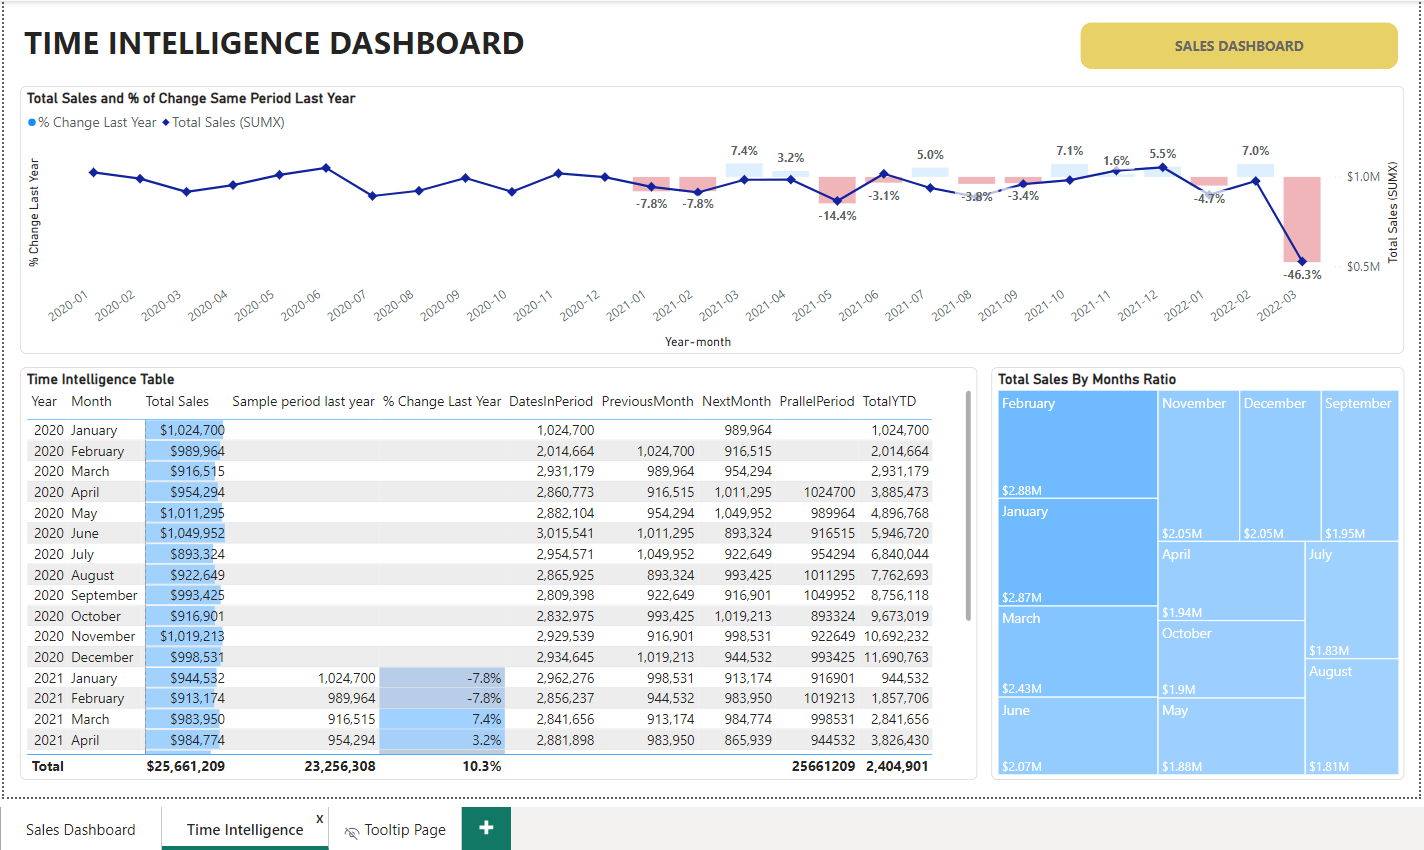

The page's visual inventory and layout, read from the dashboard file:
{"tool":"powerbi","page":{"name":"Time Intelligence","canvas":[1920,1080],"ordinal":1},"visuals":[{"type":"tableEx","title":"Time Intelligence Table","fields":{"Values":["Date.Date.Variation.Date Hierarchy.Year","Date.Date.Variation.Date Hierarchy.Month","Measure group.Total Sales (SUMX)","Measure group.Sample period last year","Measure group.% Change Last Year","Measure group.DatesInPeriod","Measure group.PreviousMonth","Measure group.NextMonth","Measure group.PrallelPeriod","Measure group.TotalYTD"]},"box":[21.3,496.2,1298.6,560],"z":0},{"type":"lineClusteredColumnComboChart","title":"Total Sales and % of Change Same Period Last Year","fields":{"Category":["Date.Year-month"],"Y2":["Measure group.Total Sales (SUMX)"],"Y":["Measure group.% Change Last Year"]},"box":[22.3,114.6,1877.2,363],"z":1000},{"type":"treemap","title":"Total Sales By Months Ratio","fields":{"Group":["Date.Month Name"],"Values":["Measure group.Total Sales (SUMX)"]},"box":[1339.5,496.2,560,560],"z":2000},{"type":"textbox","box":[21.3,19.7,772.9,83.5],"z":3000},{"type":"shape","box":[1460.1,28.7,431.5,63.7],"z":4000}]}

Visuals, with their boxes on the page's 1920x1080 design canvas (x1, y1, x2, y2). These are canvas units, not pixel positions in the 1424x850 screenshot, which may show the page scaled, cropped or inside an application window:
"Time Intelligence Table" tableEx: x1=21, y1=496, x2=1320, y2=1056
"Total Sales and % of Change Same Period Last Year" lineClusteredColumnComboChart: x1=22, y1=115, x2=1900, y2=478
"Total Sales By Months Ratio" treemap: x1=1340, y1=496, x2=1900, y2=1056
textbox: x1=21, y1=20, x2=794, y2=103
shape: x1=1460, y1=29, x2=1892, y2=92
